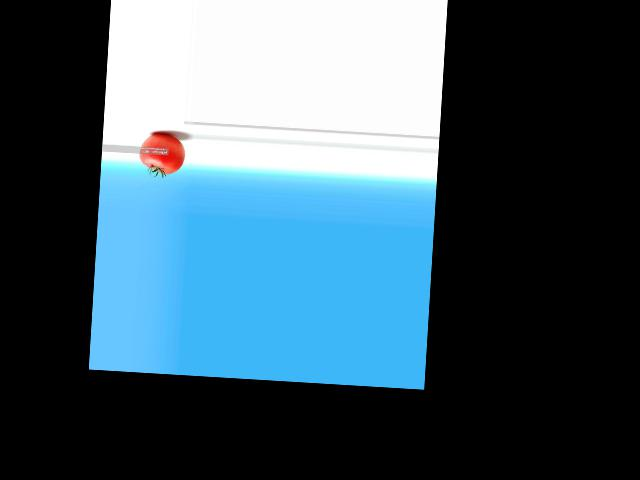tomato: (137, 133, 185, 175)
